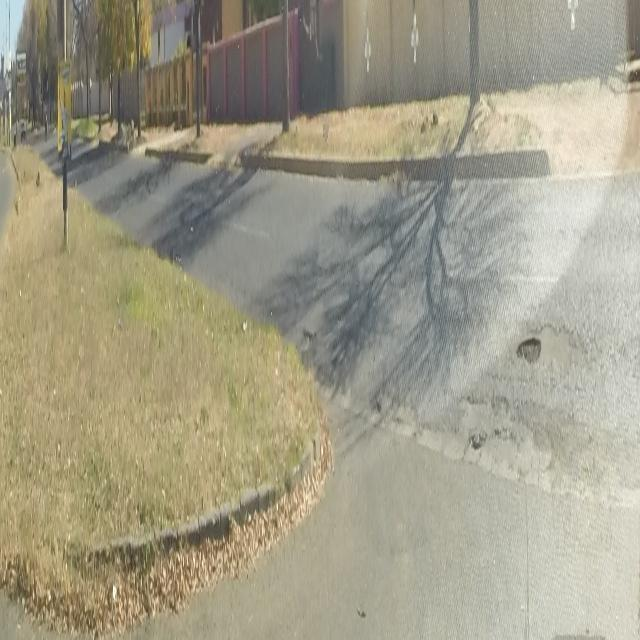pothole: (514, 332, 542, 368)
